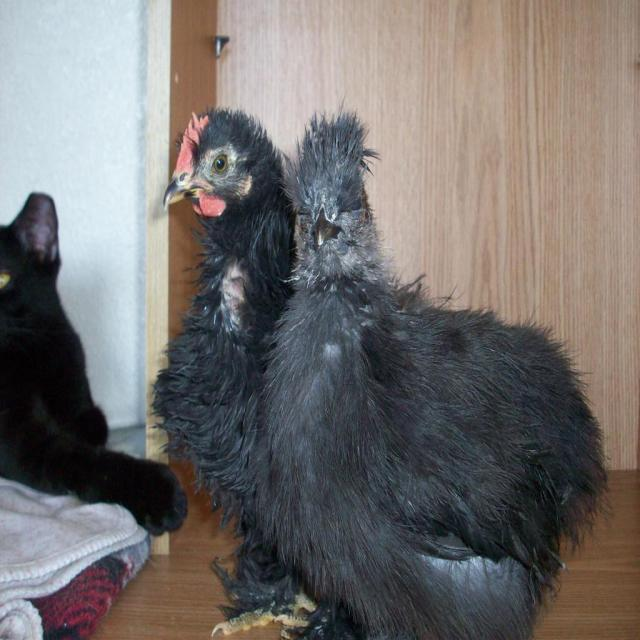Chicken: (223, 92, 616, 637)
